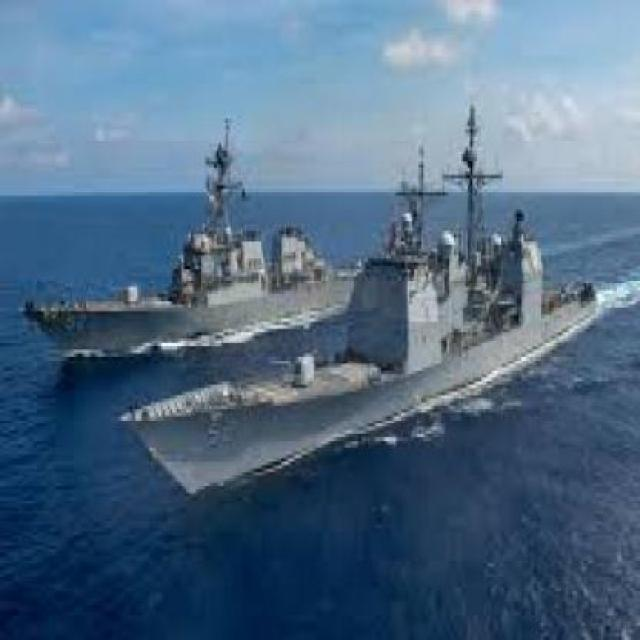warship2: (118, 116, 618, 543), (29, 106, 378, 397)
